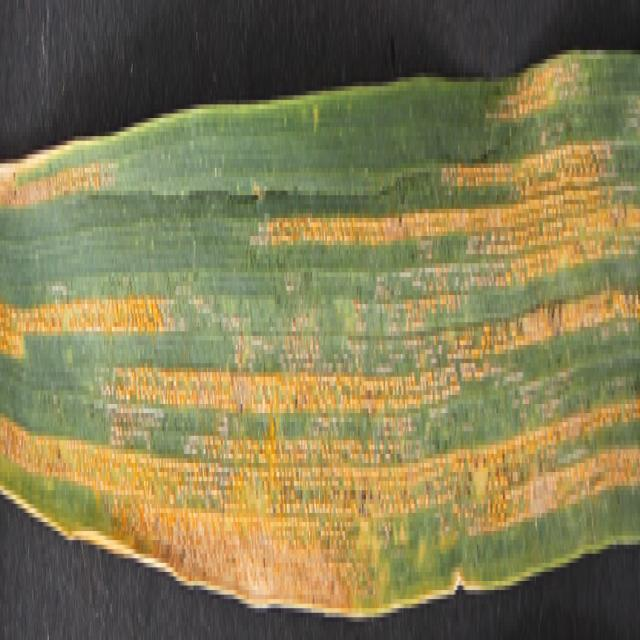leaf rust: (0, 109, 640, 622)
